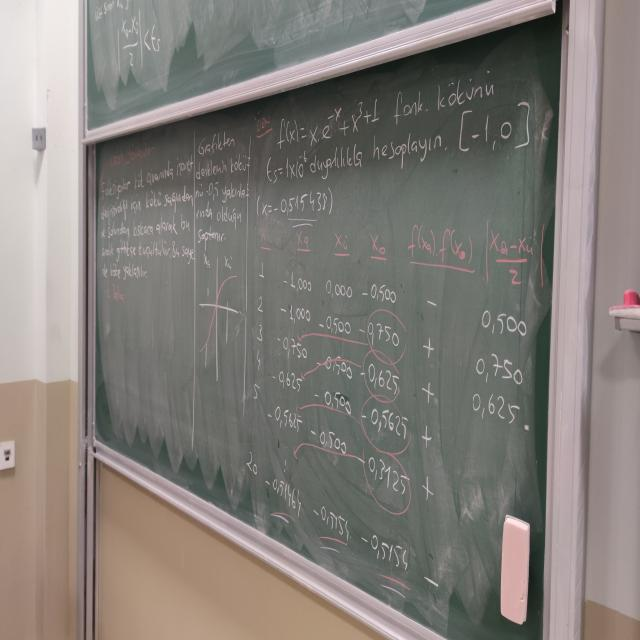image: (195, 252, 245, 395)
math: (240, 221, 546, 640), (275, 79, 389, 161), (252, 175, 336, 225)
text: (95, 122, 197, 291), (306, 117, 454, 189), (193, 123, 252, 264), (391, 62, 498, 125)
